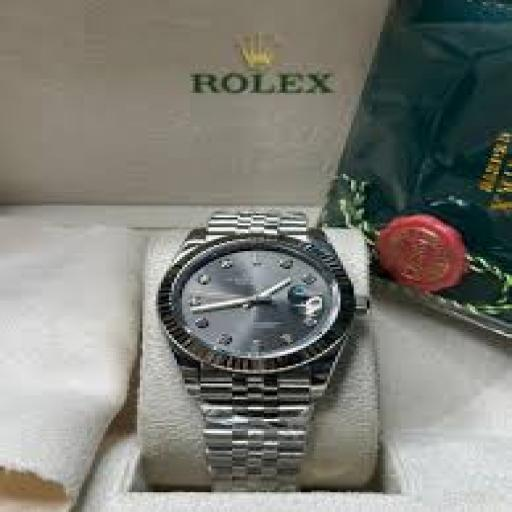KolSaati: (152, 184, 374, 496)
